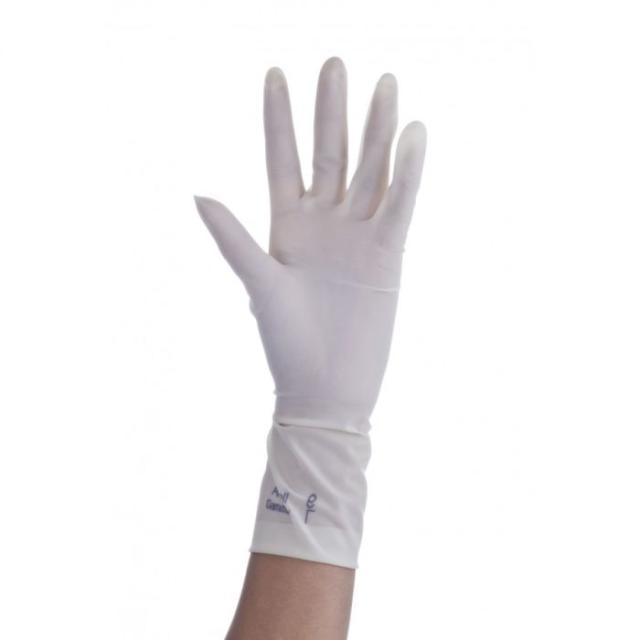Gloves: (190, 51, 428, 534)
